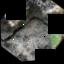Purslane: (9, 0, 64, 63)
